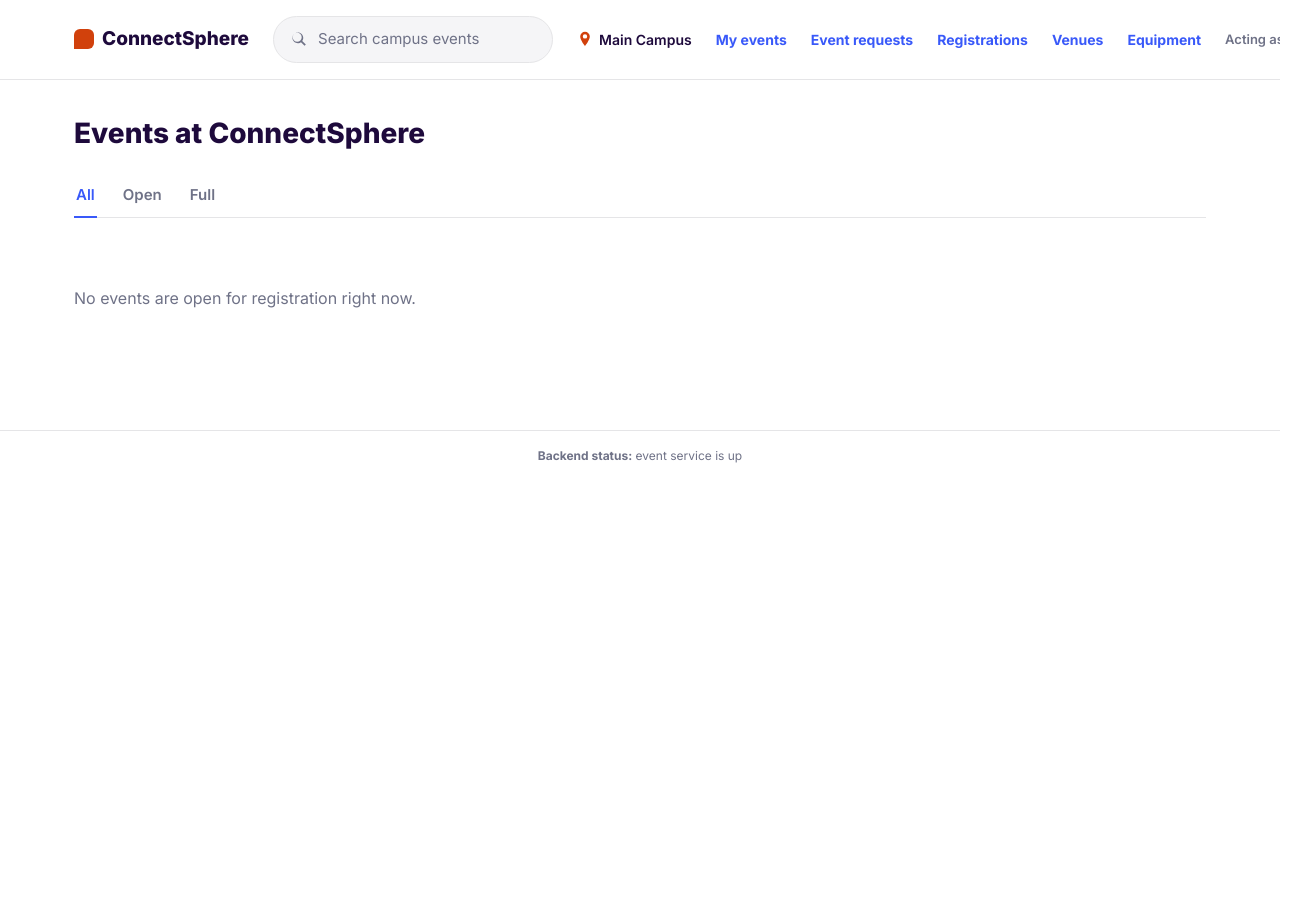
Test case: venue search (US2) › sends the core criteria with the coordinator's id (AC 1)
Click the button "Venues" at point(1078, 39), box x1=1052 y1=29 x2=1104 y2=50
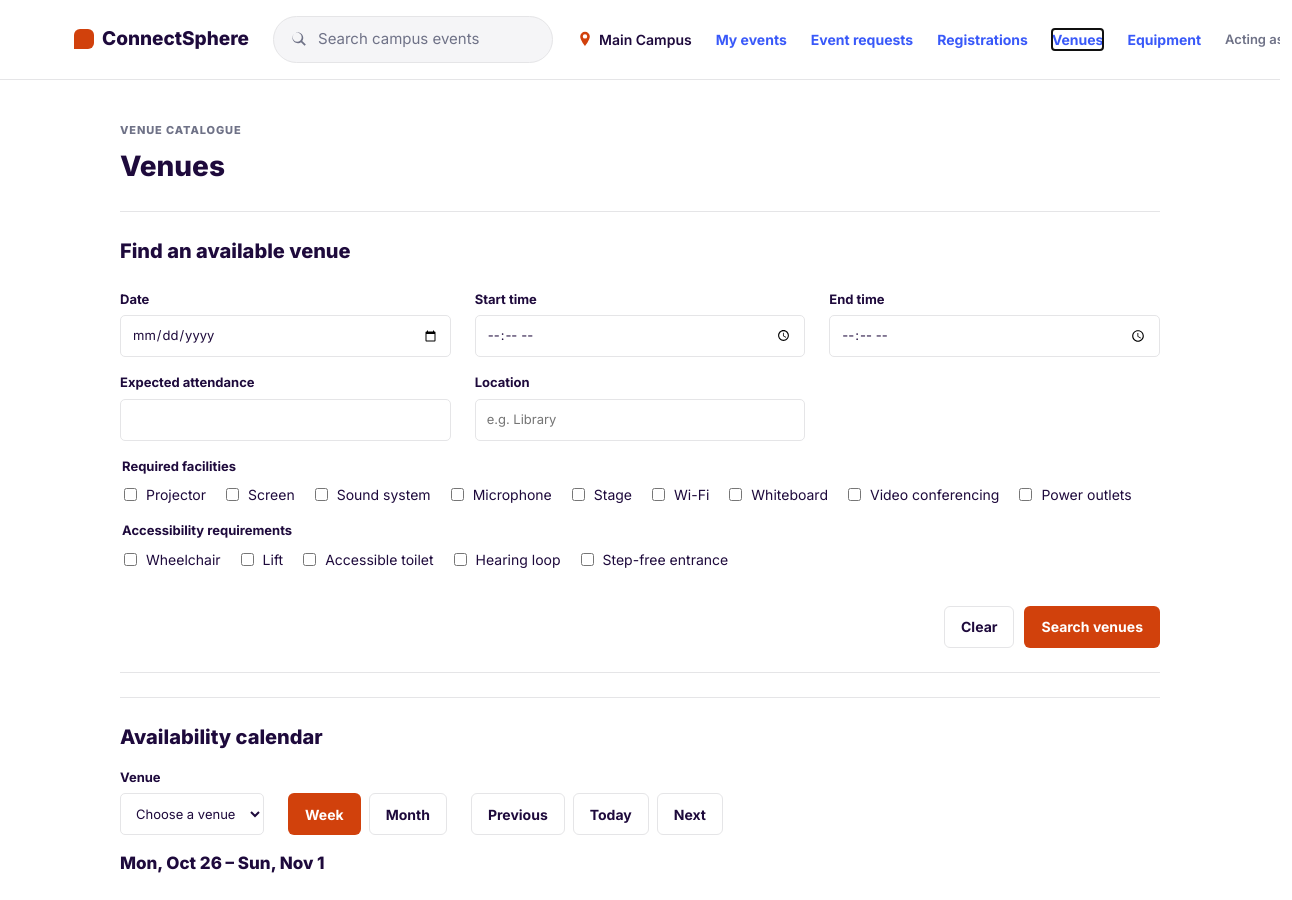
Type "2026-10-10" into the date field labelled "Date" at point(285, 336), box x1=120 y1=315 x2=451 y2=357
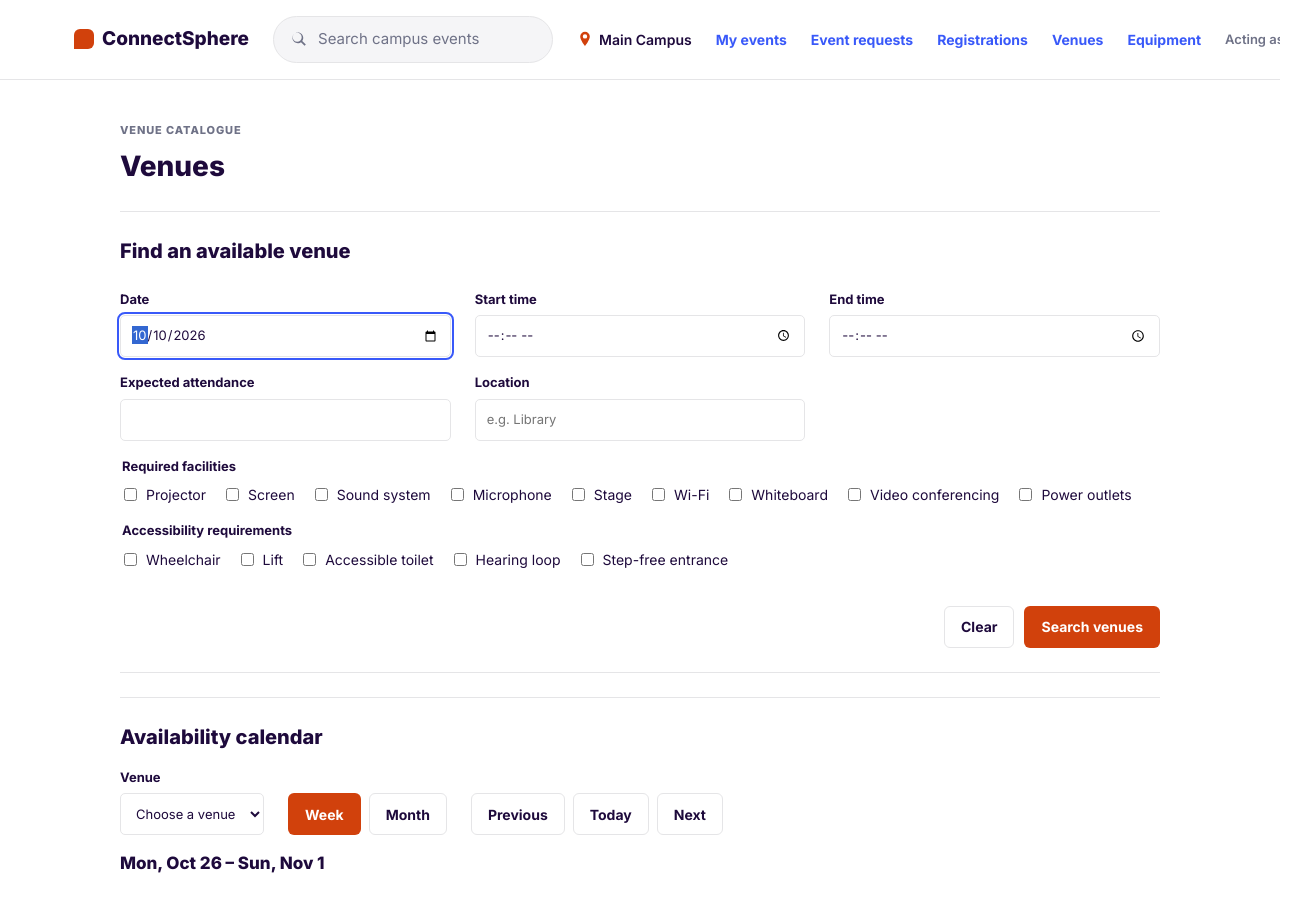
Type "10:00" into the time field labelled "Start time" at point(640, 336), box x1=475 y1=315 x2=805 y2=357
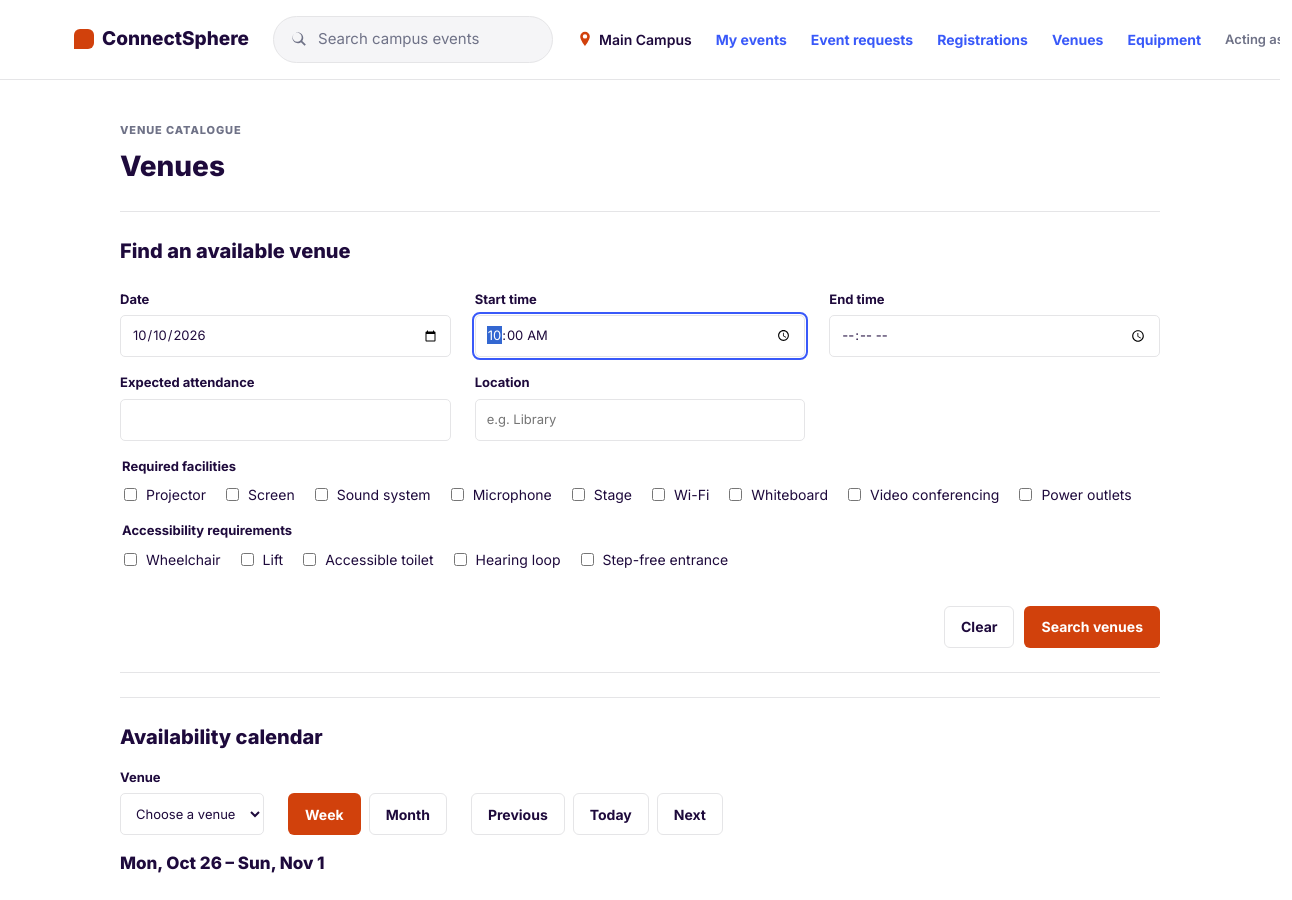
Type "12:00" into the time field labelled "End time" at point(995, 336), box x1=829 y1=315 x2=1160 y2=357
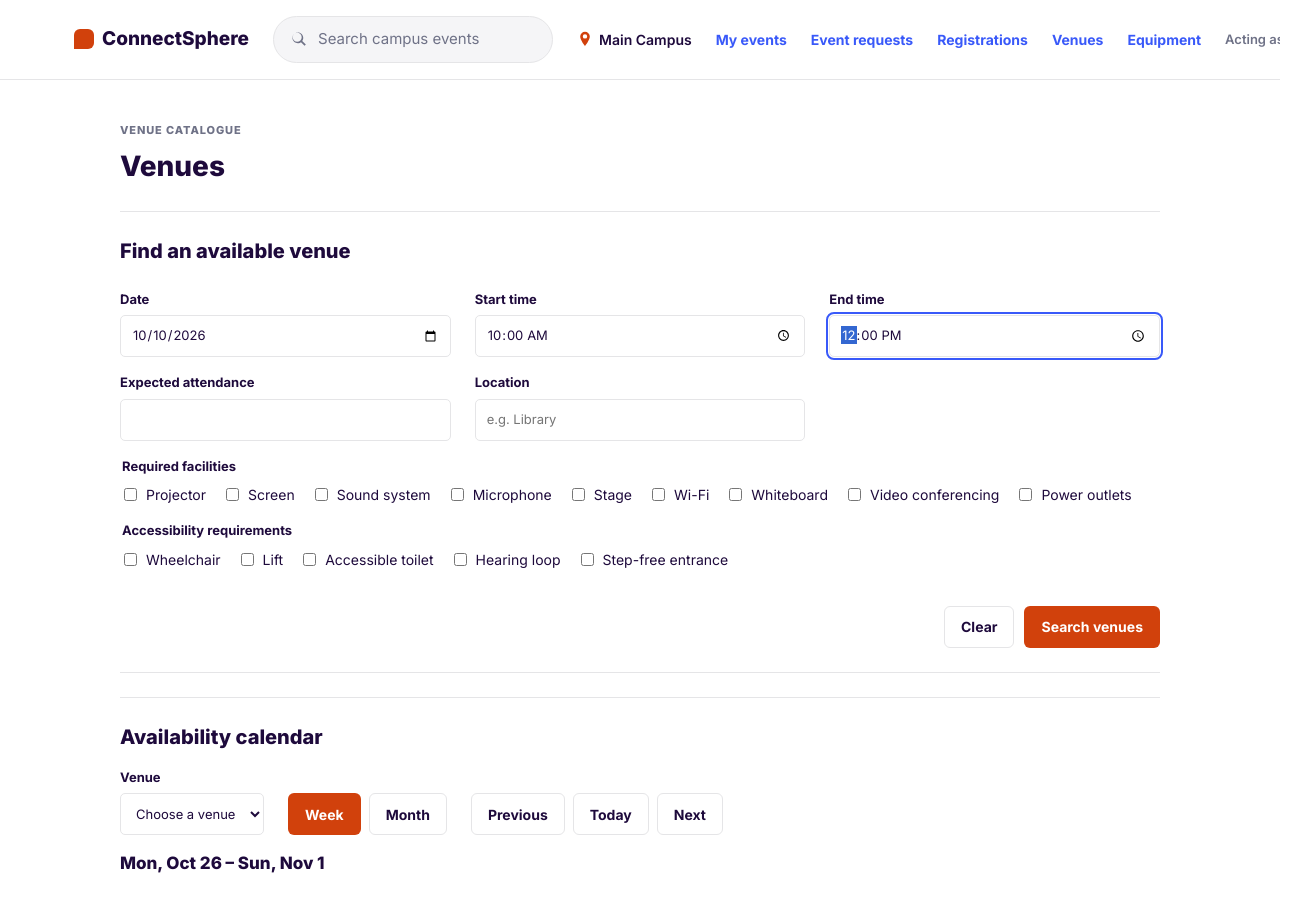
Type "30" into the number field labelled "Expected attendance" at point(285, 420), box x1=120 y1=398 x2=451 y2=440
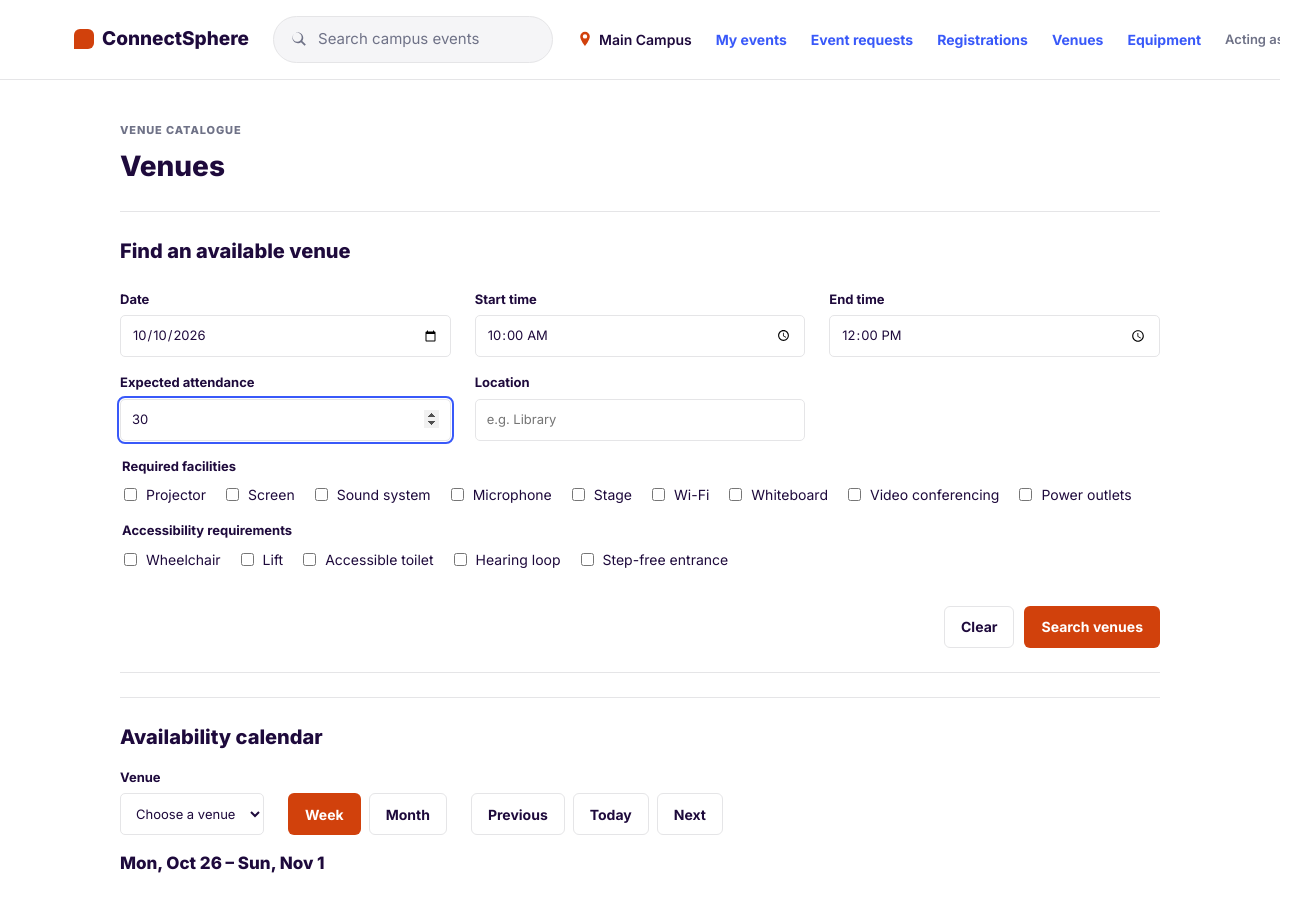
Click the button "Search venues" at point(1092, 626), box x1=1024 y1=606 x2=1160 y2=648
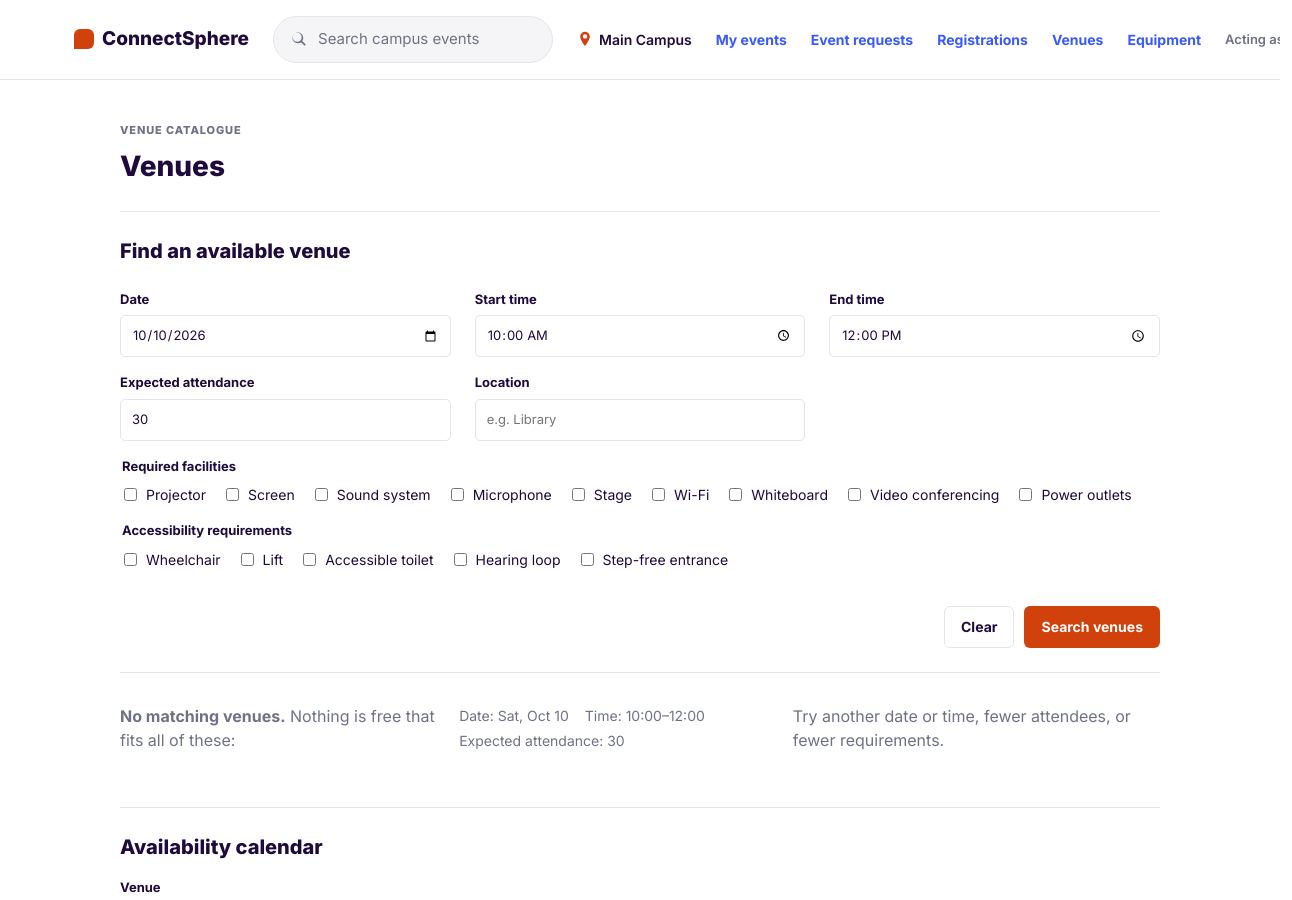
Result: the text "No matching venues." is shown at x1=120 y1=706 x2=286 y2=726
